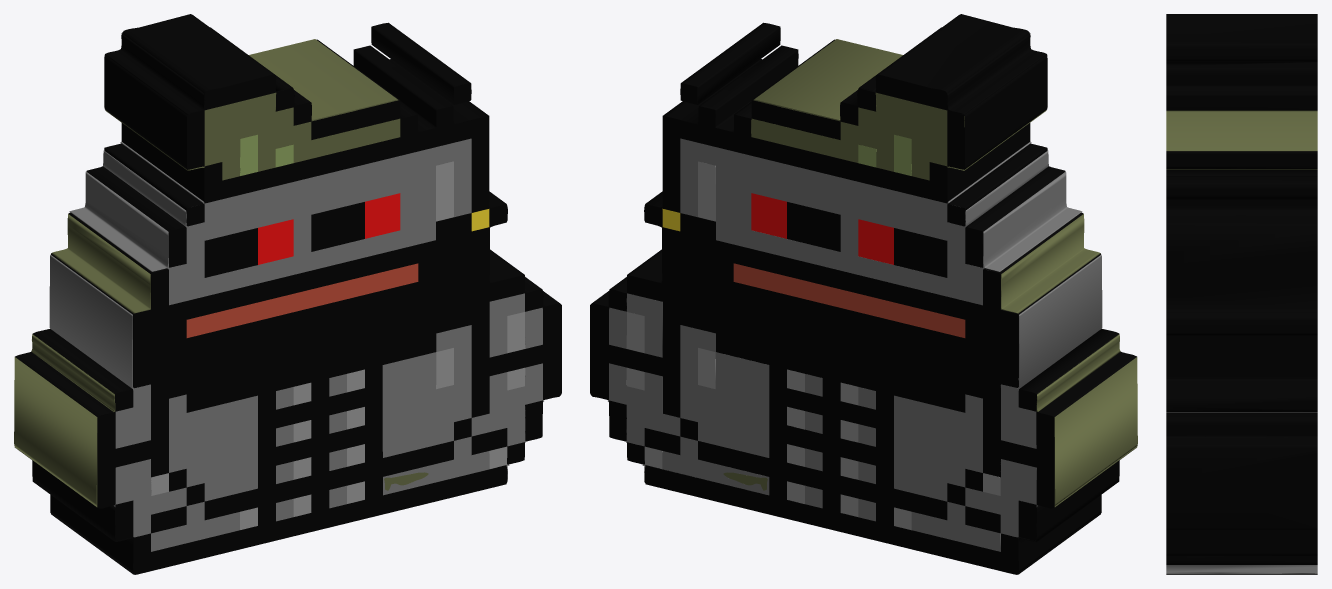
The model's file is Toadz_2802.glb.
3 renders of one model, left to right at view 1: azimuth 30°, elevation 25°; view 2: azimuth 150°, elevation 25°; view 3: azimuth 270°, elevation 25°, orthographic. The views are drawn at different scales.
Parts seen in each view (by area): view 1: Curve; view 2: Curve; view 3: Curve.
Part boxes in pixels (x1,y1,x2,y2): Curve: (14, 14, 561, 574); Curve: (590, 14, 1137, 574); Curve: (1166, 14, 1317, 574).
Size of the model in its own units: 3.25 by 3.12 by 1.
